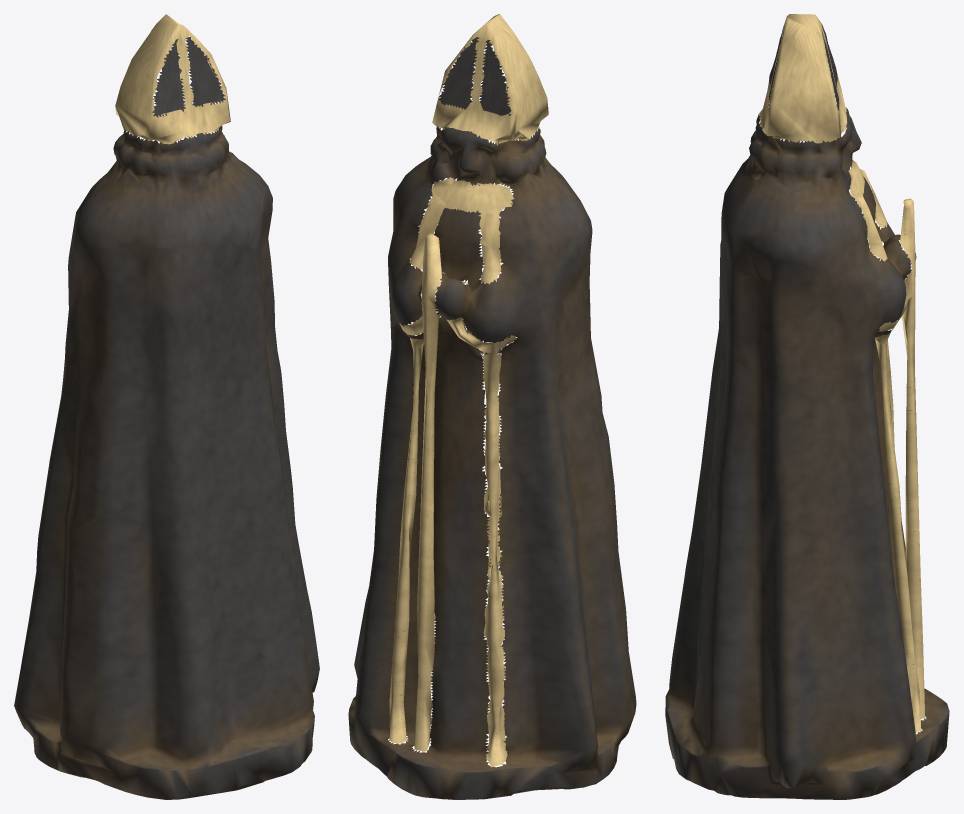
Rendered from bishop-black.glb.
3 views of the same model, side by side, from view 1: azimuth 30°, elevation 25°; view 2: azimuth 150°, elevation 25°; view 3: azimuth 270°, elevation 25° (orthographic).
Visible parts, largest first — view 1: Argent Reliquary – Black Bishop; view 2: Argent Reliquary – Black Bishop; view 3: Argent Reliquary – Black Bishop.
Part boxes in pixels (box(x1,y1,x2,y2)): Argent Reliquary – Black Bishop: box(14, 14, 319, 799); Argent Reliquary – Black Bishop: box(348, 14, 636, 799); Argent Reliquary – Black Bishop: box(665, 14, 949, 799).
Size of the model in its own units: 0.5363 by 1.39 by 0.4879.
2 materials, 2 textured.
